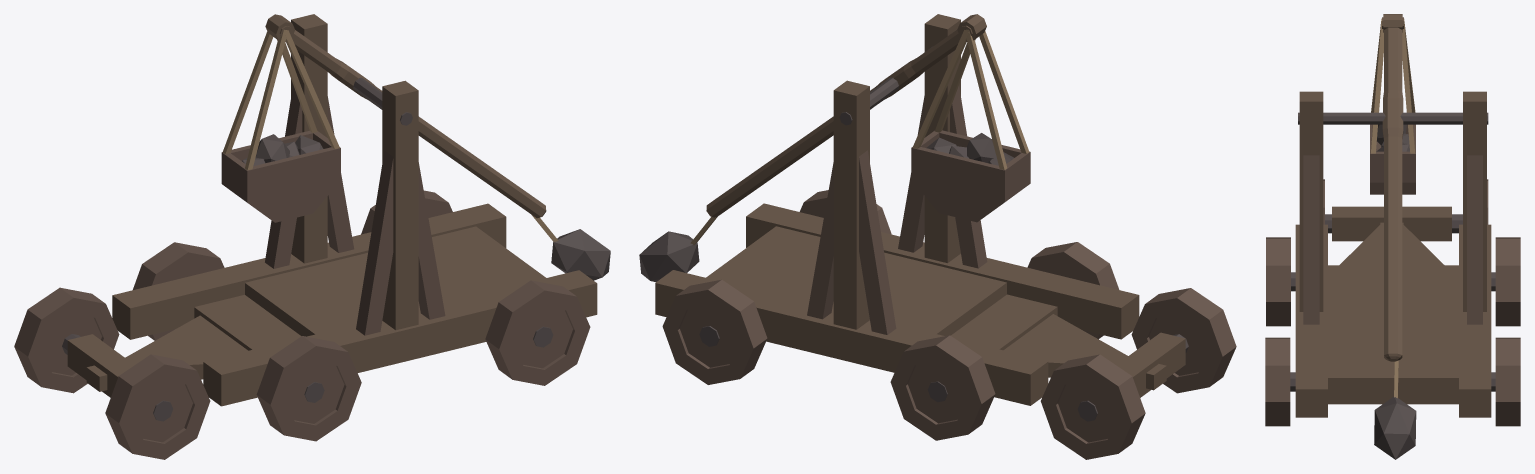
The model's file is catapult.glb.
3 renders of one model, left to right at view 1: azimuth 30°, elevation 25°; view 2: azimuth 150°, elevation 25°; view 3: azimuth 270°, elevation 25°, orthographic. The views are drawn at different scales.
Visible parts, largest first — view 1: Catapult.023; view 2: Catapult.023; view 3: Catapult.023.
Part boxes in pixels (x1,y1,x2,y2): Catapult.023: (14, 14, 610, 459); Catapult.023: (639, 14, 1236, 459); Catapult.023: (1265, 14, 1520, 459).
Bounding box in the file's own units: 0.1911 × 0.122 × 0.0866.
